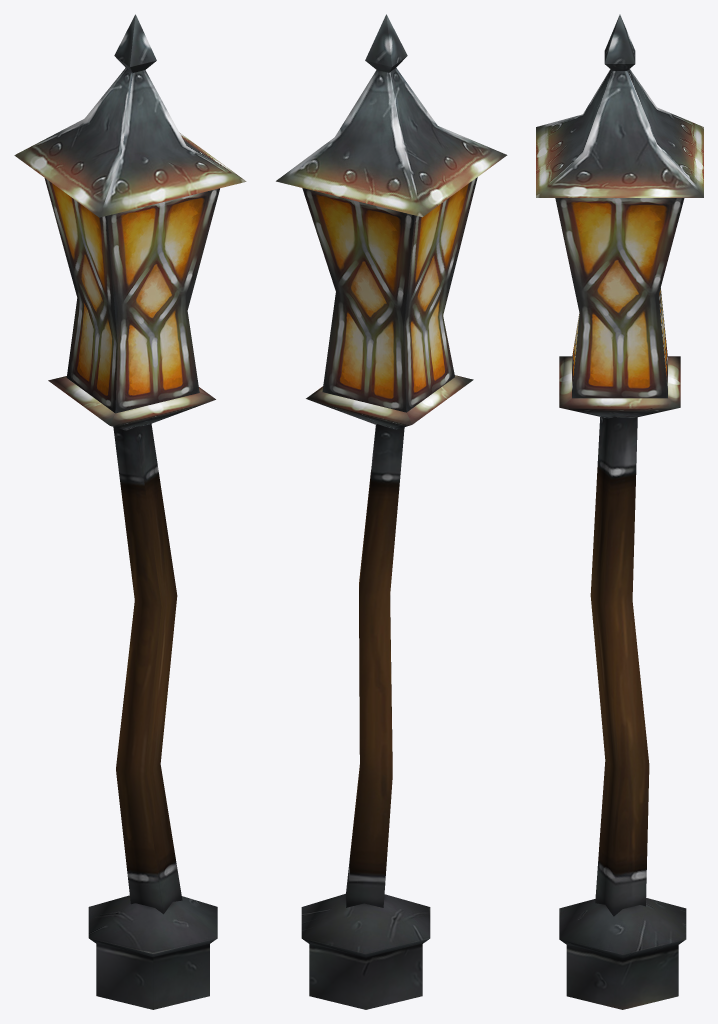
File: lantern.fbx
3 renders of one model, left to right at view 1: azimuth 30°, elevation 25°; view 2: azimuth 150°, elevation 25°; view 3: azimuth 270°, elevation 25°, orthographic.
Parts seen in each view (by area): view 1: lantern; view 2: lantern; view 3: lantern.
Boxes of the visible parts, left/top/right/bottom form: lantern: left=14, top=14, right=246, bottom=1009; lantern: left=276, top=14, right=507, bottom=1009; lantern: left=536, top=14, right=703, bottom=1009.
Bounding box in the file's own units: 571 × 519 × 3273.
1 material, 1 textured.
